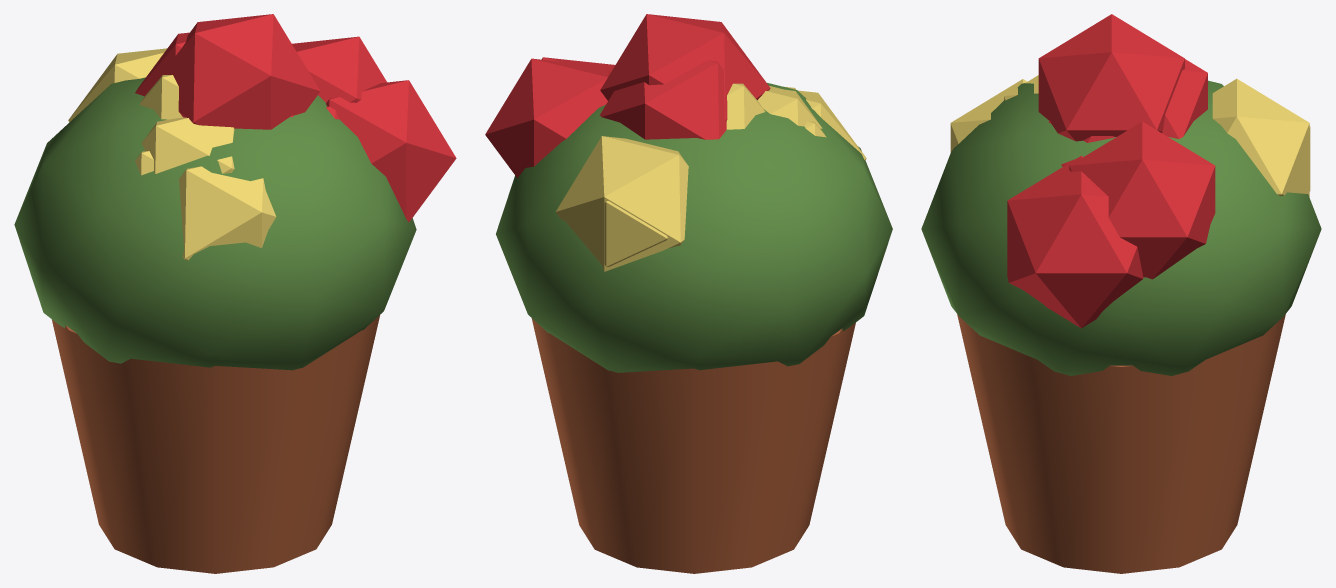
Rendered from flower-pot.obj.
3 renders of one model, left to right at view 1: azimuth 30°, elevation 25°; view 2: azimuth 150°, elevation 25°; view 3: azimuth 270°, elevation 25°, orthographic.
Parts seen in each view (by area): view 1: flower-pot_1, flower-pot_0, flower-pot_4, flower-pot_10, flower-pot_11, flower-pot_14, flower-pot_3, flower-pot_7, flower-pot_13, flower-pot_12; view 2: flower-pot_1, flower-pot_0, flower-pot_7, flower-pot_14, flower-pot_4, flower-pot_12, flower-pot_9, flower-pot_3, flower-pot_13, flower-pot_11; view 3: flower-pot_0, flower-pot_1, flower-pot_10, flower-pot_14, flower-pot_4, flower-pot_7, flower-pot_12, flower-pot_11.
Part boxes in pixels (x1,y1,x2,y2): flower-pot_1: [14, 77, 416, 370]; flower-pot_0: [52, 315, 379, 573]; flower-pot_4: [148, 14, 320, 129]; flower-pot_10: [326, 80, 456, 221]; flower-pot_11: [179, 166, 276, 260]; flower-pot_14: [292, 36, 386, 102]; flower-pot_3: [142, 117, 234, 173]; flower-pot_7: [68, 48, 166, 121]; flower-pot_13: [139, 75, 182, 119]; flower-pot_12: [135, 32, 189, 96]; flower-pot_1: [496, 83, 892, 372]; flower-pot_0: [531, 318, 855, 573]; flower-pot_7: [556, 136, 688, 271]; flower-pot_14: [485, 58, 610, 177]; flower-pot_4: [600, 14, 770, 121]; flower-pot_12: [600, 60, 726, 139]; flower-pot_9: [604, 201, 667, 266]; flower-pot_3: [757, 86, 822, 128]; flower-pot_13: [726, 83, 765, 129]; flower-pot_11: [798, 90, 866, 160]; flower-pot_0: [957, 314, 1285, 573]; flower-pot_1: [921, 80, 1321, 375]; flower-pot_10: [1007, 156, 1143, 328]; flower-pot_14: [1069, 121, 1215, 279]; flower-pot_4: [1038, 14, 1184, 141]; flower-pot_7: [1212, 78, 1309, 197]; flower-pot_12: [1162, 59, 1207, 138]; flower-pot_11: [950, 79, 1027, 152].
Bounding box in the file's own units: 0.4059 × 0.5223 × 0.38.
